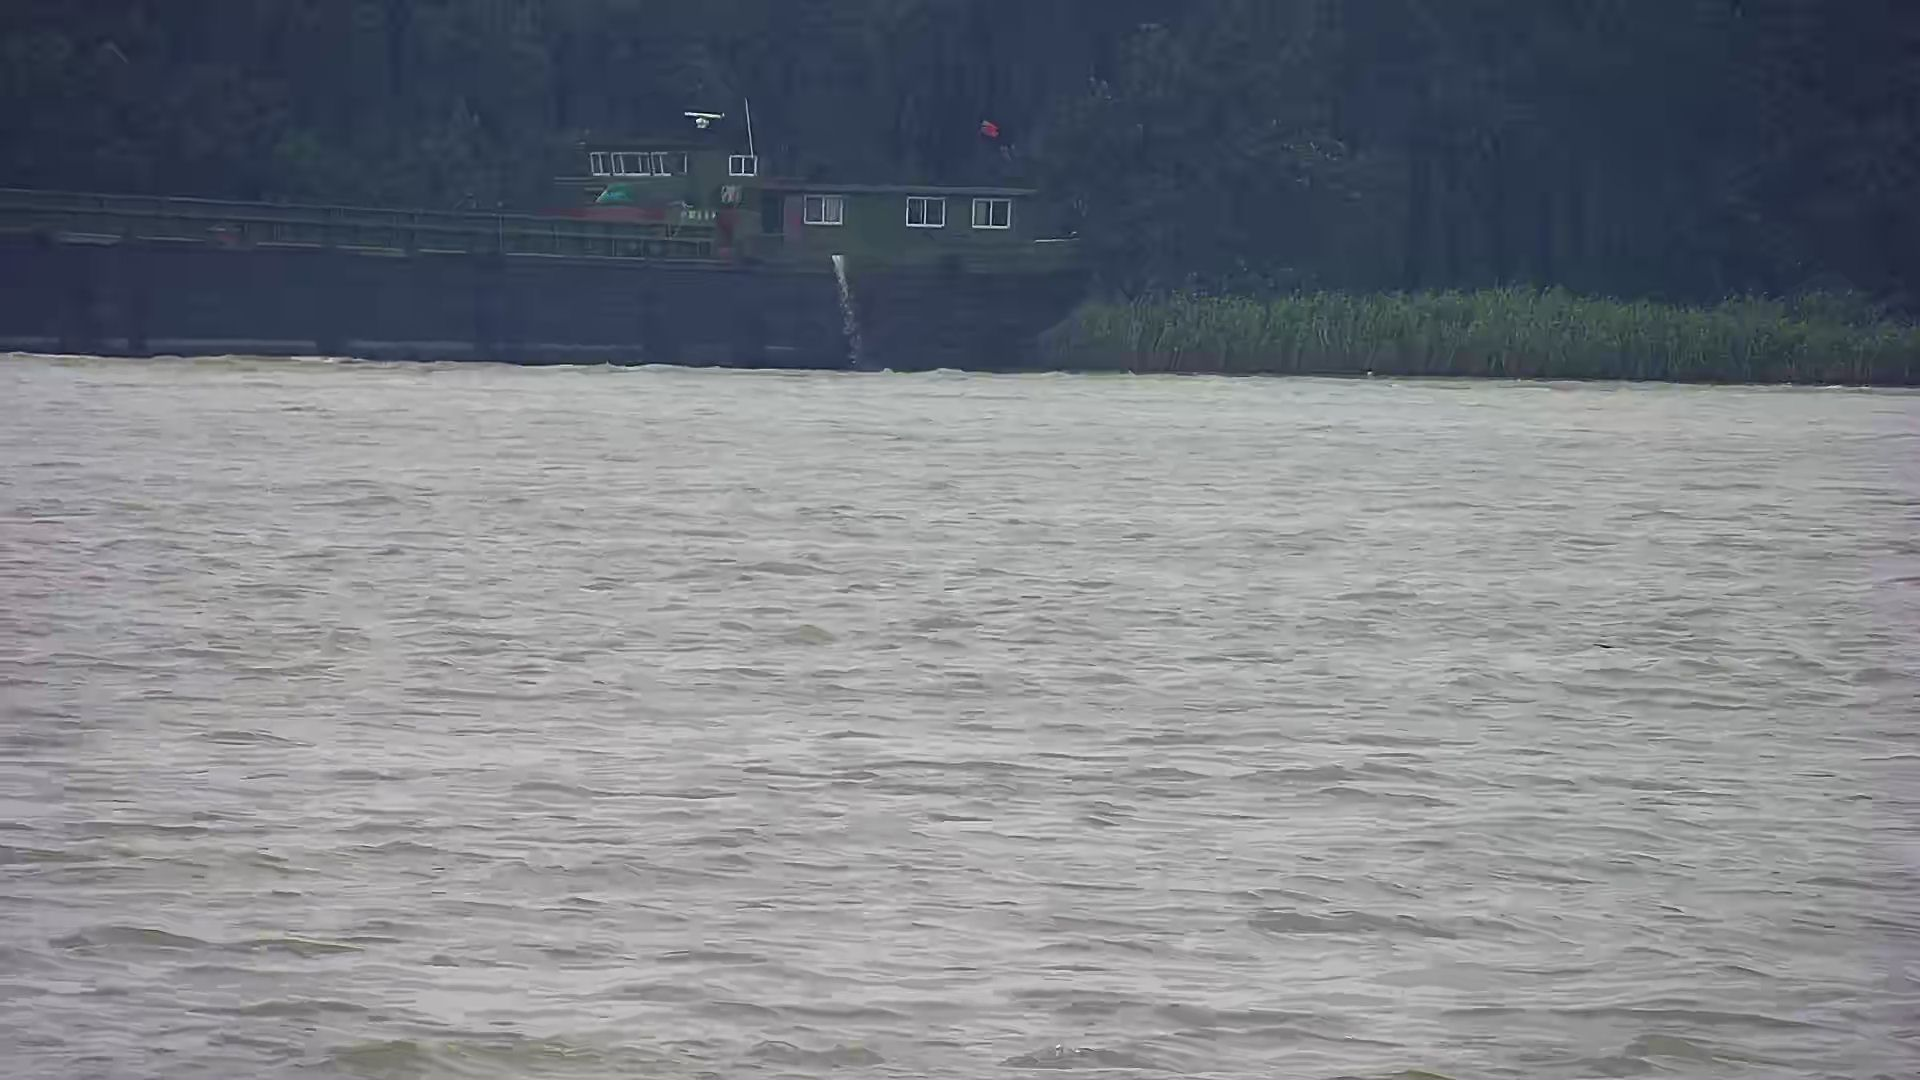ship: (1, 84, 1100, 390)
